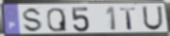1: (106, 6, 118, 33)
5: (70, 6, 91, 33)
Q: (46, 7, 69, 32)
S: (22, 7, 44, 34)
T: (119, 7, 138, 31)
U: (142, 6, 164, 32)
